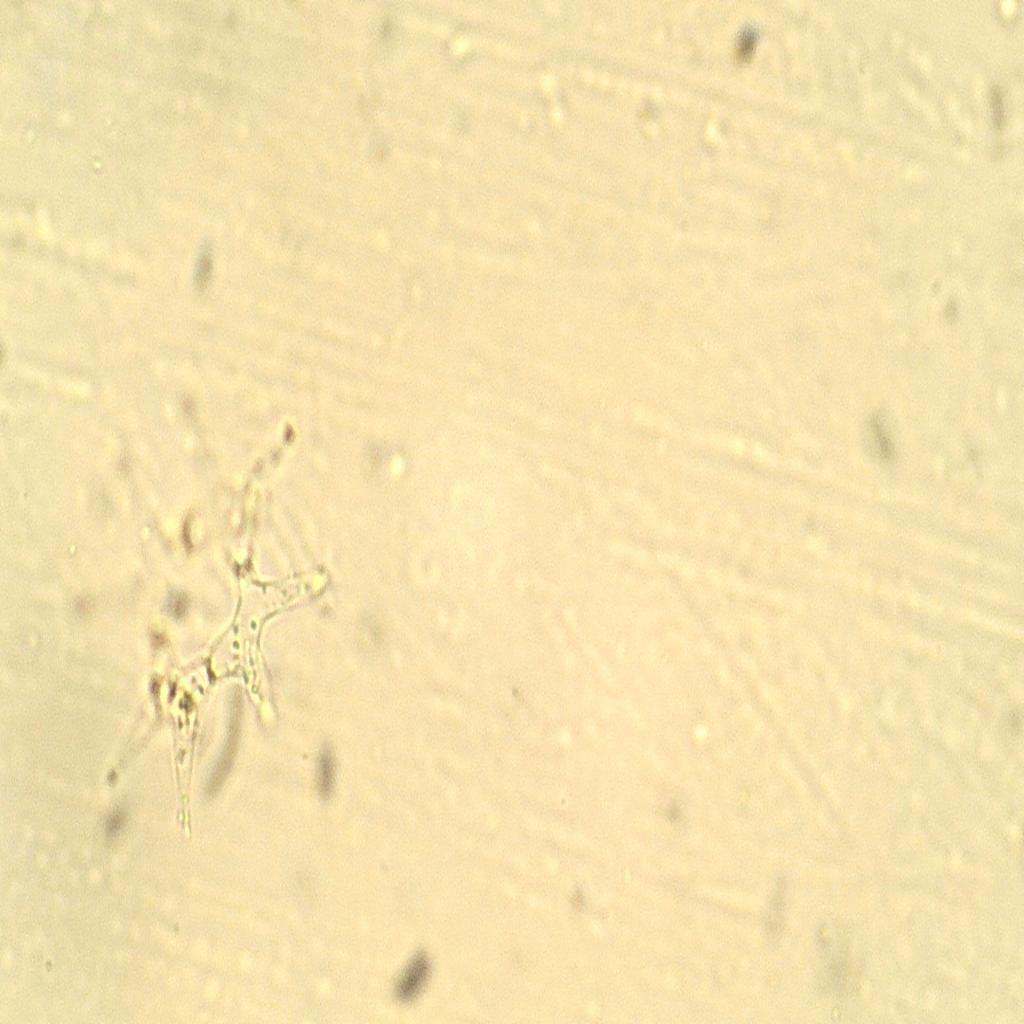Pediastrum_75TH: (58, 355, 344, 857)
